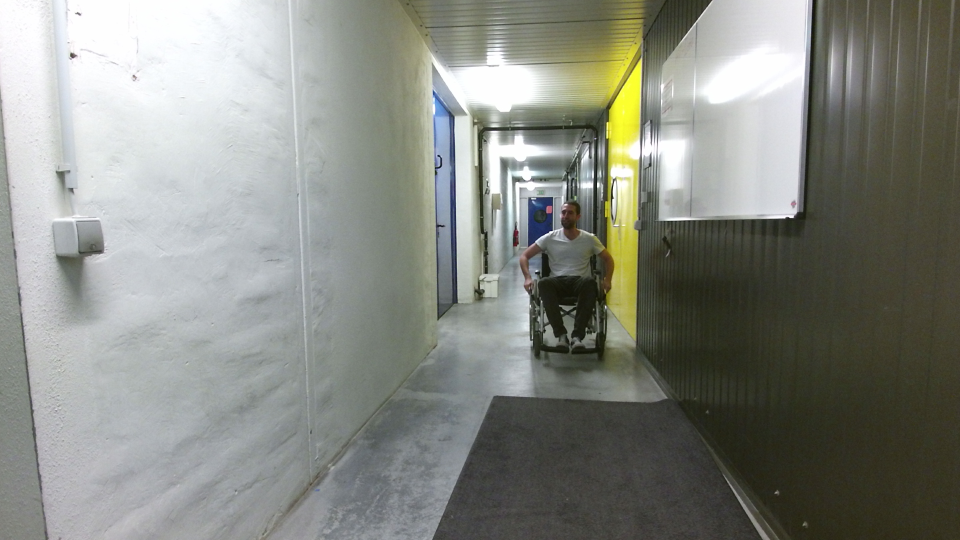wheelchair: (511, 200, 621, 366)
